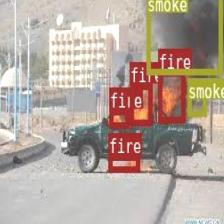fire: (158, 69, 184, 122), (129, 83, 151, 124), (108, 154, 139, 171), (108, 108, 128, 127)
smoke: (146, 0, 222, 74), (187, 77, 206, 115)
